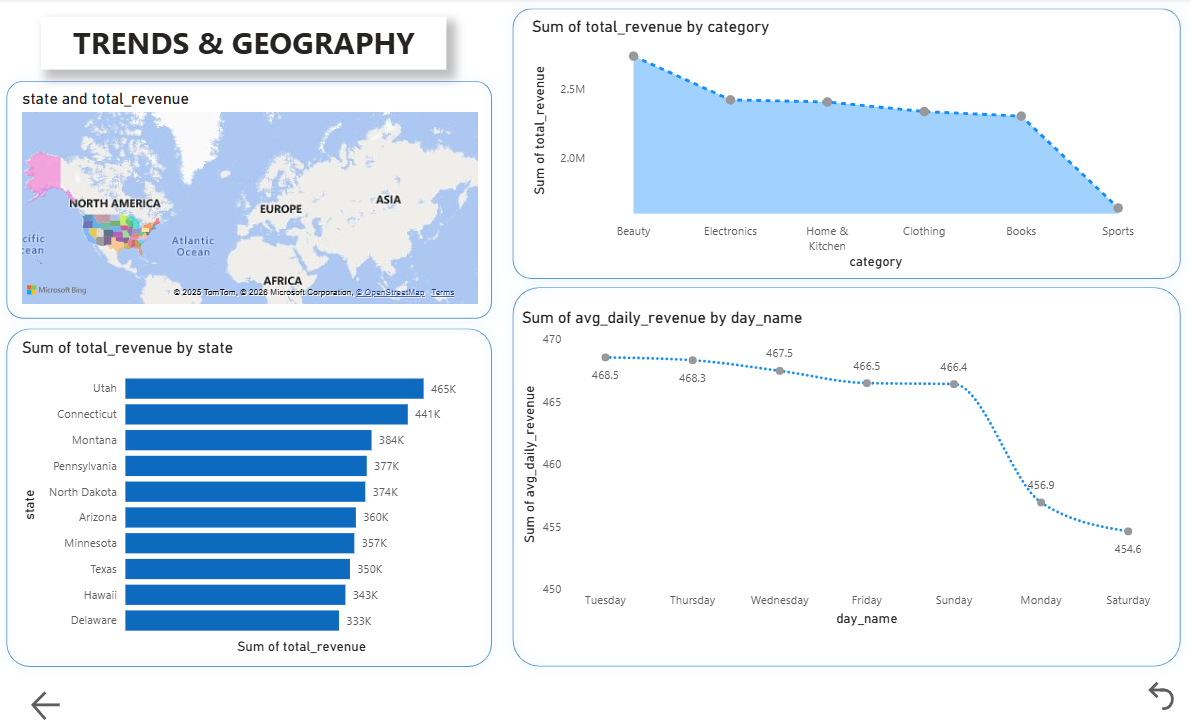

The page's visual inventory and layout, read from the dashboard file:
{"tool":"powerbi","page":{"name":"TRENDS & GEOGRAPHY","canvas":[1280,780],"ordinal":3},"visuals":[{"type":"shape","box":[0,339,536.7,380.9],"z":0},{"type":"shape","box":[536.7,295.8,730,424.2],"z":1000},{"type":"shape","box":[0,76.5,536.7,274.1],"z":2000},{"type":"shape","box":[536.7,0,730,308.8],"z":3000},{"type":"filledMap","fields":{"Category":["query6.state"],"Series":["query6.total_revenue"]},"box":[23.1,96.7,493.4,232.3],"z":4000},{"type":"clusteredBarChart","fields":{"Category":["query6.state"],"Y":["Sum(query6.total_revenue)"]},"box":[23.1,360.7,493.4,340.5],"z":5000},{"type":"lineChart","fields":{"Category":["query9.day_name"],"Y":["Sum(query9.avg_daily_revenue)"]},"box":[552.6,328.9,689.6,341.9],"z":6000},{"type":"stackedAreaChart","fields":{"Category":["query4.category"],"Y":["Sum(query4.total_revenue)"]},"box":[562.7,20.2,679.5,272.7],"z":7000},{"type":"textbox","box":[47.6,20.2,429.9,56.3],"z":8000},{"type":"actionButton","box":[1214.8,719.9,54.8,40.4],"z":9000},{"type":"actionButton","box":[33.2,730,44.7,40.4],"z":10000}]}

Visuals, with their boxes in screenshot pixels (x1, y1, x2, y2), scaled from the page's 1280x780 canvas onto the 1191x724 screenshot:
shape: <region>0, 315, 499, 668</region>
shape: <region>499, 275, 1179, 668</region>
shape: <region>0, 71, 499, 325</region>
shape: <region>499, 0, 1179, 287</region>
filledMap - query6.state x query6.total_revenue: <region>21, 90, 481, 305</region>
clusteredBarChart - query6.state x Sum(query6.total_revenue): <region>21, 335, 481, 651</region>
lineChart - query9.day_name x Sum(query9.avg_daily_revenue): <region>514, 305, 1156, 623</region>
stackedAreaChart - query4.category x Sum(query4.total_revenue): <region>524, 19, 1156, 272</region>
textbox: <region>44, 19, 444, 71</region>
actionButton: <region>1130, 668, 1181, 706</region>
actionButton: <region>31, 678, 72, 715</region>
